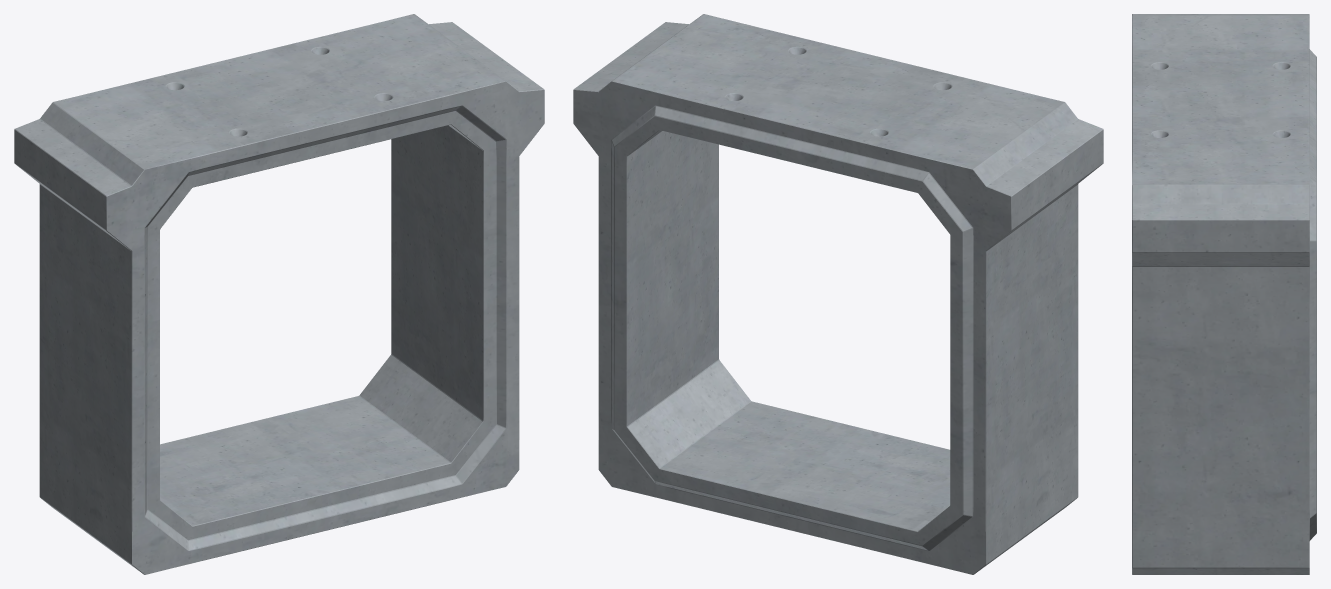
File: Przepust skrzynkowy - zamkniety 02.glb
3 renders of one model, left to right at view 1: azimuth 30°, elevation 25°; view 2: azimuth 150°, elevation 25°; view 3: azimuth 270°, elevation 25°, orthographic. The views are drawn at different scales.
Visible parts, largest first — view 1: Przepust skrzynkowy - zamkniety2; view 2: Przepust skrzynkowy - zamkniety2; view 3: Przepust skrzynkowy - zamkniety2.
Part boxes in pixels (<box>): Przepust skrzynkowy - zamkniety2: <box>14,14,544,574</box>; Przepust skrzynkowy - zamkniety2: <box>573,14,1103,574</box>; Przepust skrzynkowy - zamkniety2: <box>1132,14,1316,574</box>.
Bounding box in the file's own units: 2.71 × 2.4 × 1.03.
Materials: 1 (1 with a texture image).
